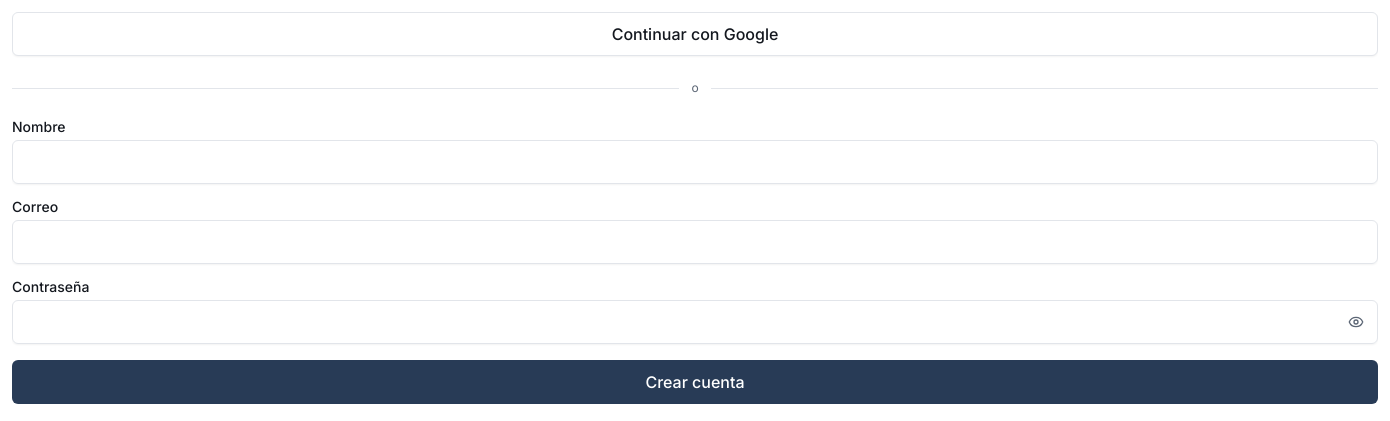
Test: RegistroForm › envía los datos y muestra la pantalla de confirmación cuando el registro necesita confirmar el correo
Step 1. Type "Juan" into the field labelled "Nombre" → (695, 162), box left=12, top=140, right=1378, bottom=184
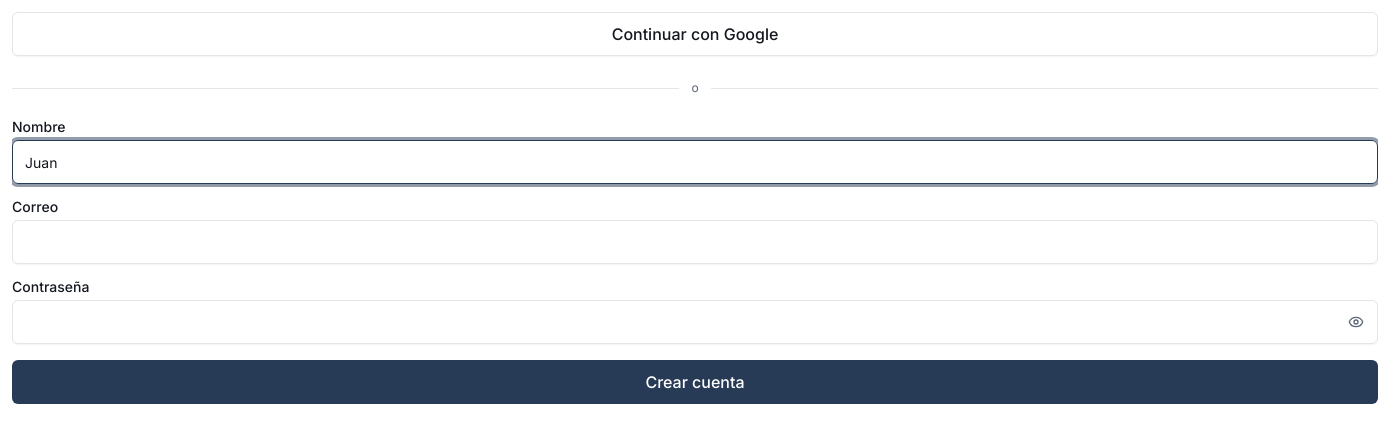
Step 2. Type "juan@trazio.com.ar" into the field labelled "Correo" → (695, 242), box left=12, top=220, right=1378, bottom=264
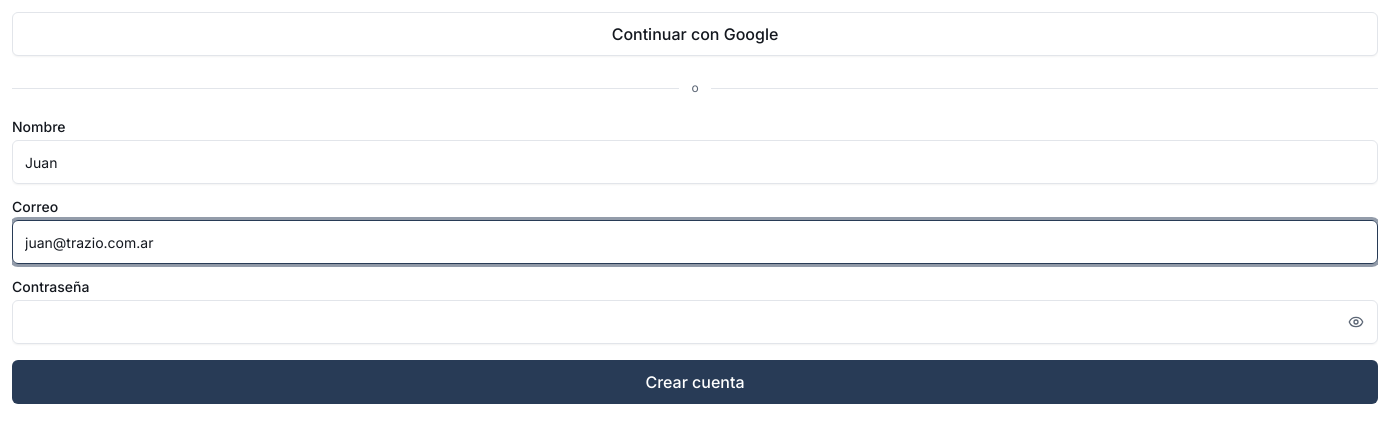
Step 3. Type "12345678" into the password field labelled "Contraseña" → (695, 322), box left=12, top=300, right=1378, bottom=344
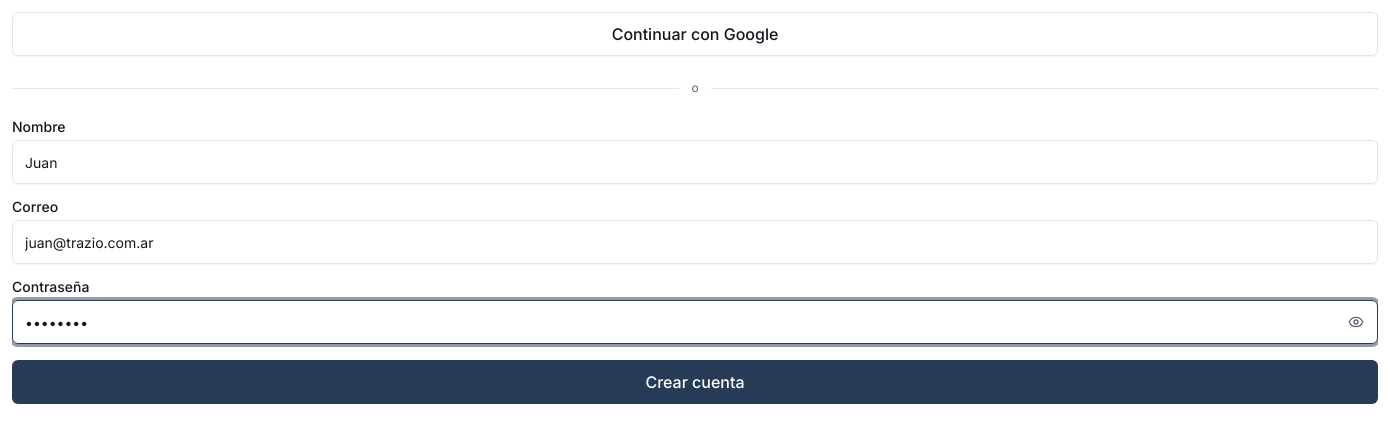
Step 4. Click the button "Crear cuenta" → (695, 382), box left=12, top=360, right=1378, bottom=404
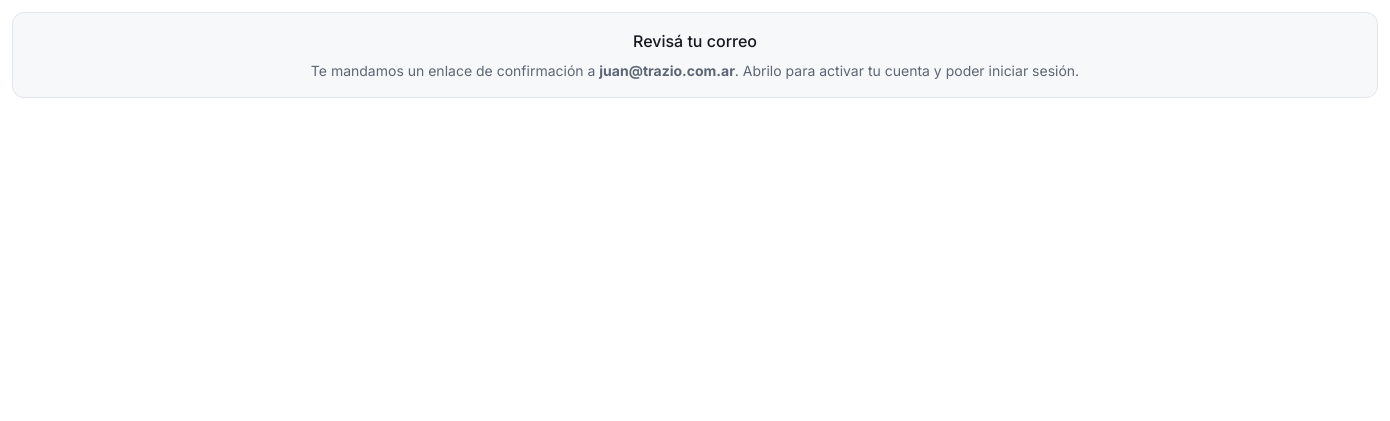
Expected: the text "Revisá tu correo" is shown, left=633, top=31, right=757, bottom=51
Expected: the text "juan@trazio.com.ar" is shown, left=599, top=62, right=735, bottom=79
